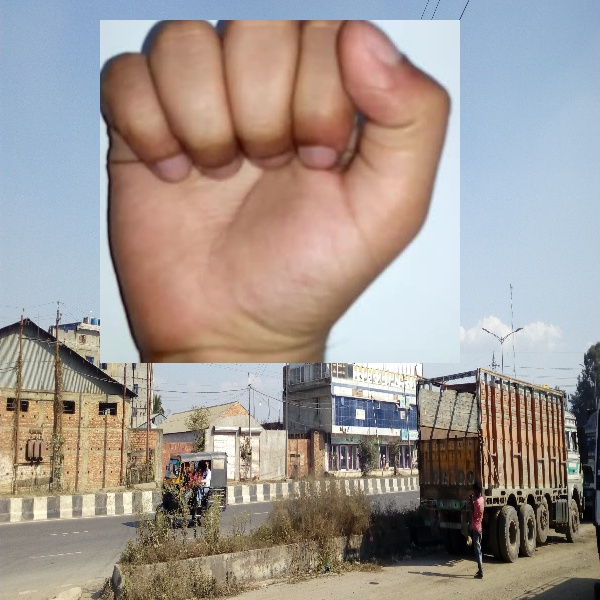A: (100, 20, 460, 363)
